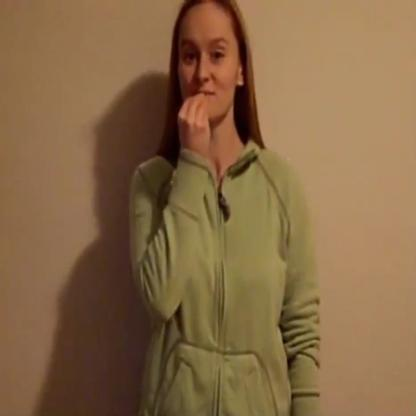Food: (144, 0, 297, 252)
